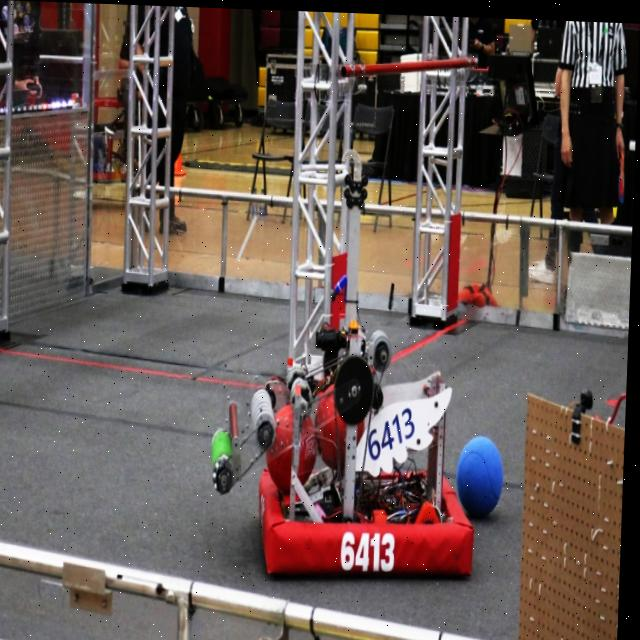robot: (209, 299, 485, 585)
